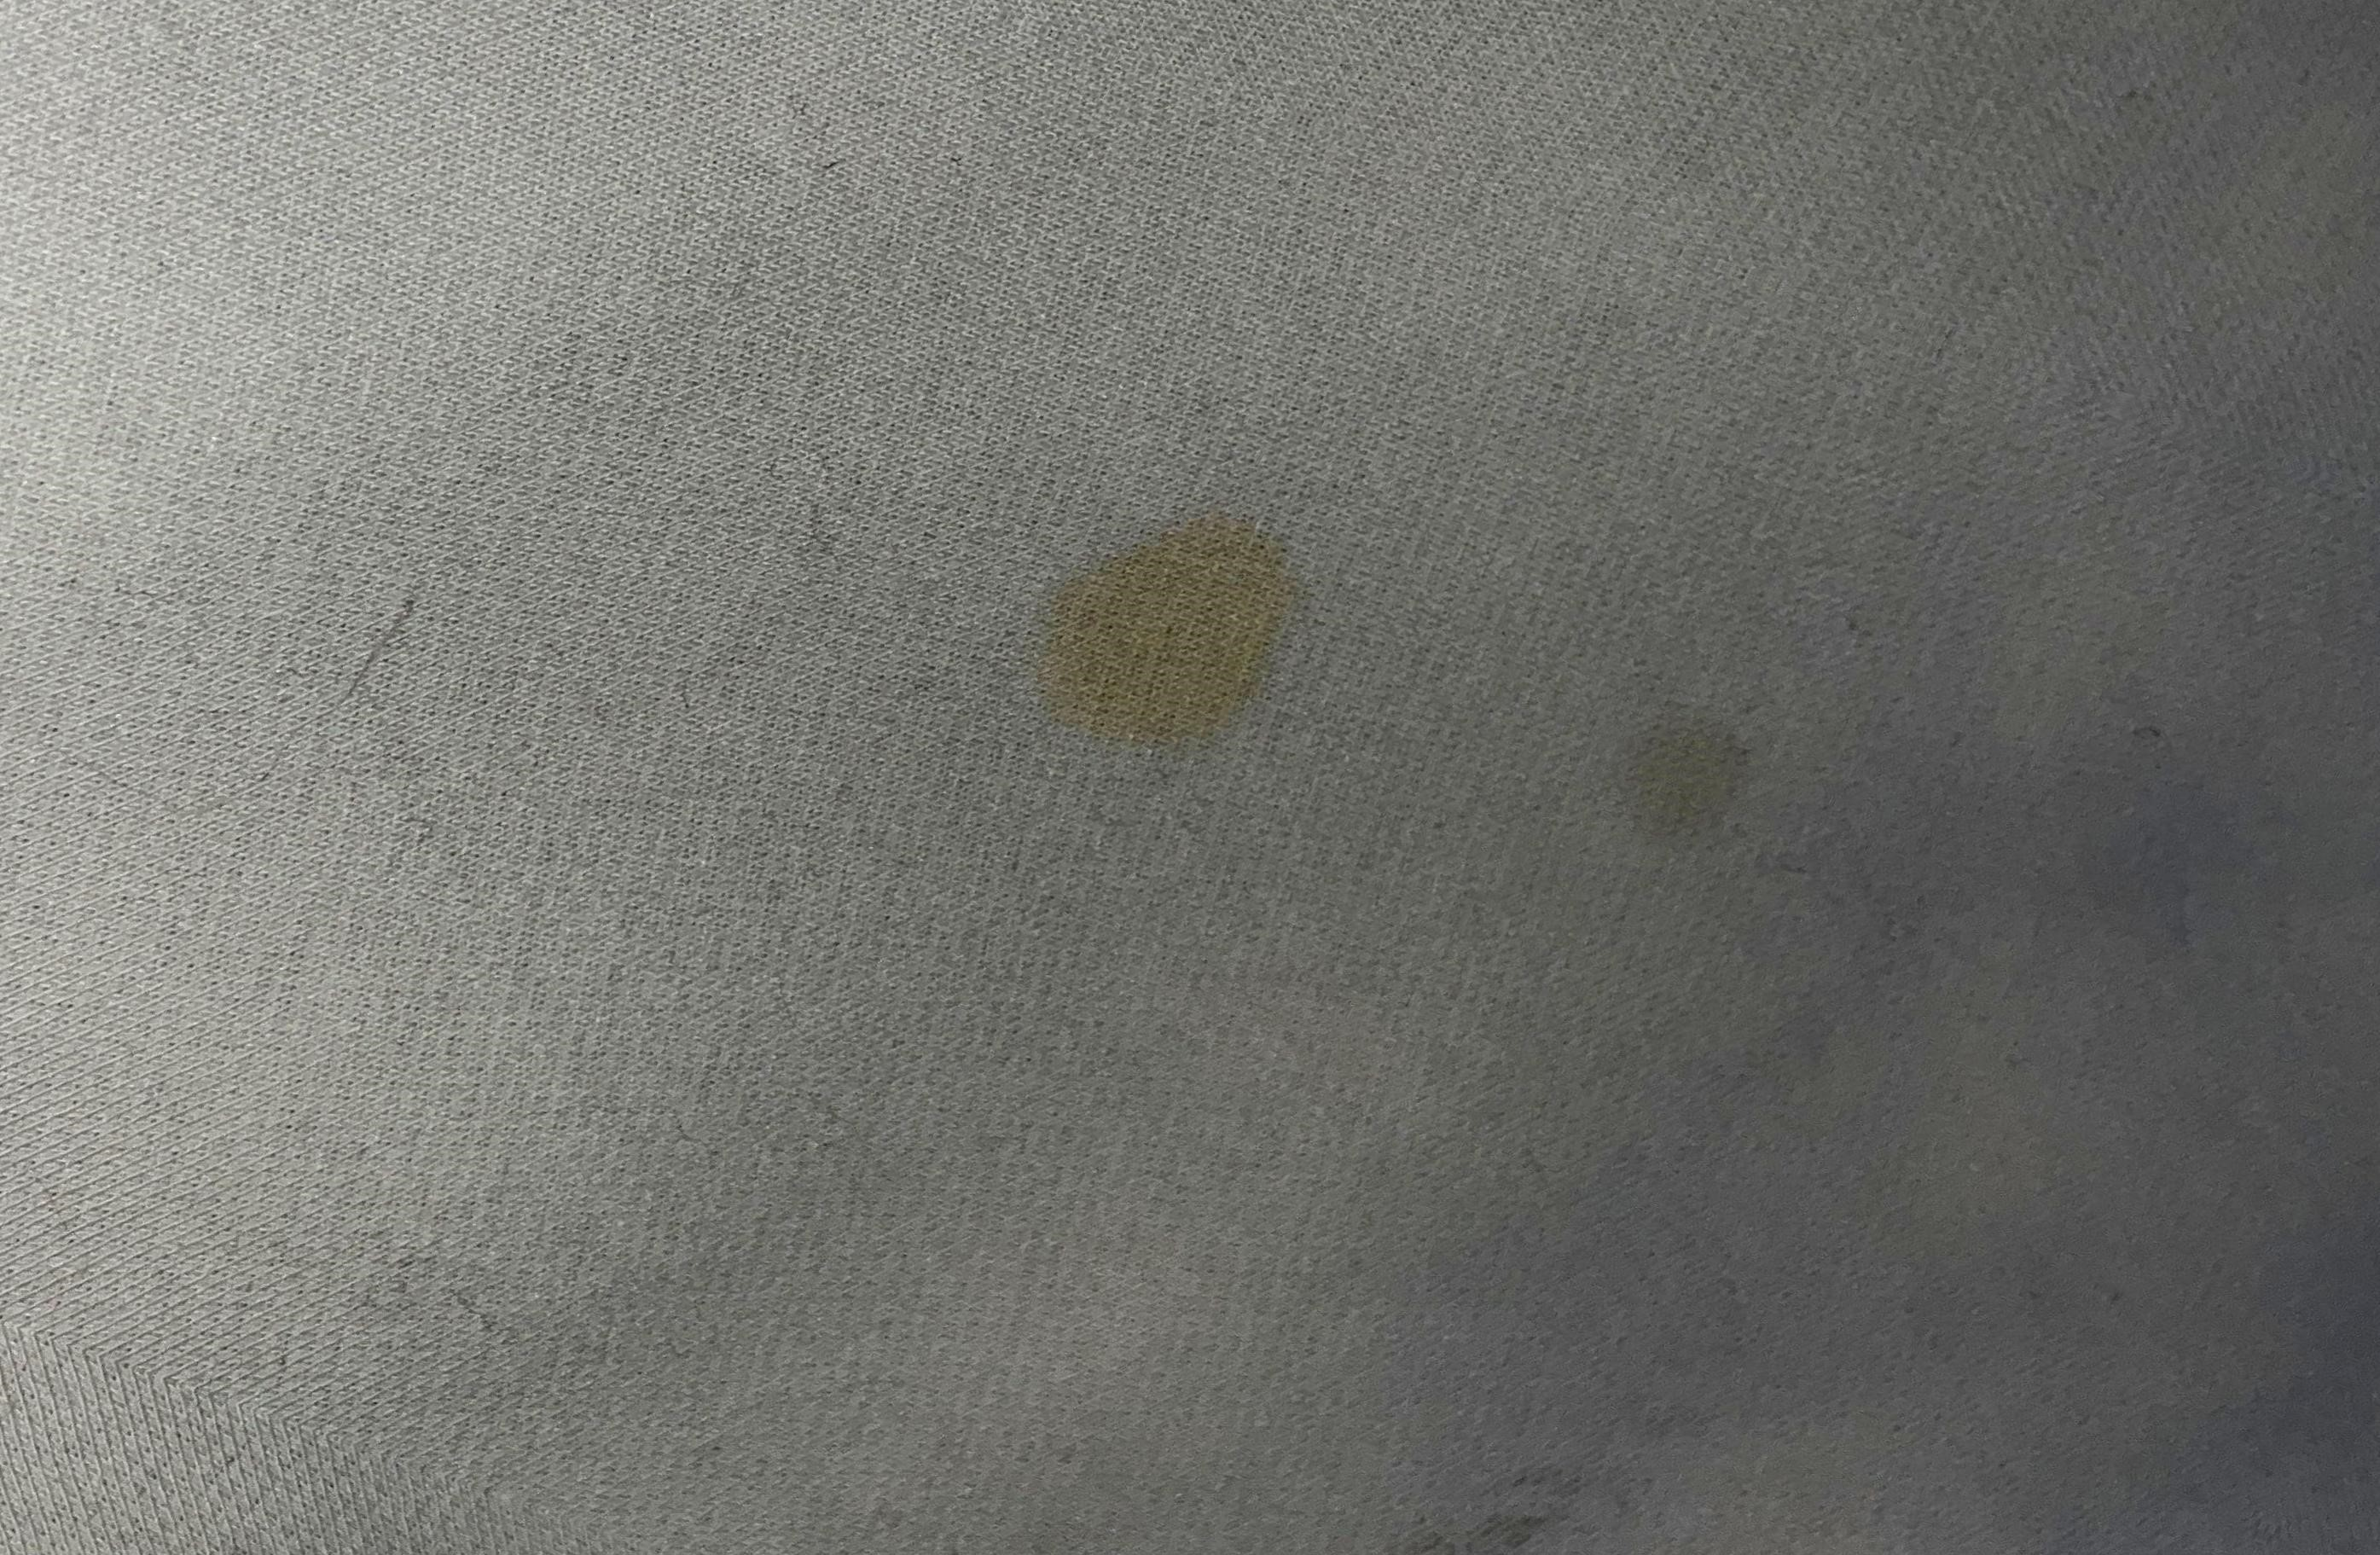stain: (1027, 502, 1343, 760), (1605, 689, 1776, 861)
